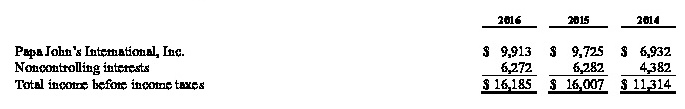table: (0, 0, 685, 109)
